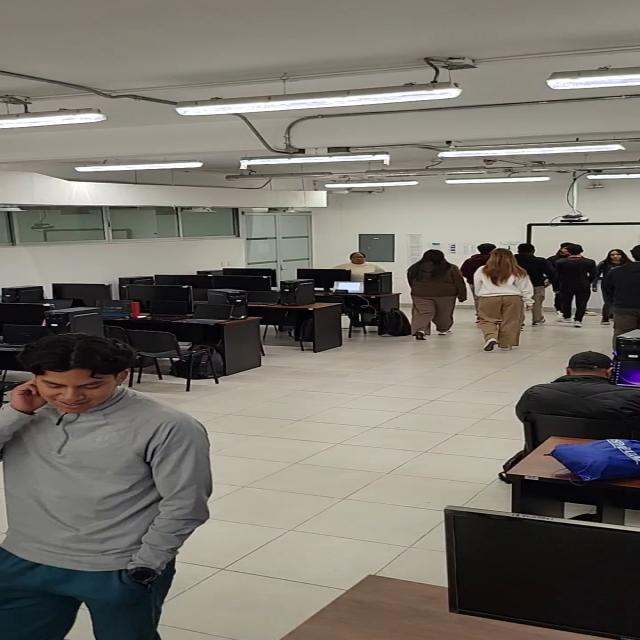Persona: (0, 331, 212, 640), (473, 248, 536, 352), (403, 249, 469, 340), (598, 244, 640, 355), (552, 244, 600, 328), (511, 243, 552, 327), (595, 247, 640, 323), (461, 243, 504, 322)
